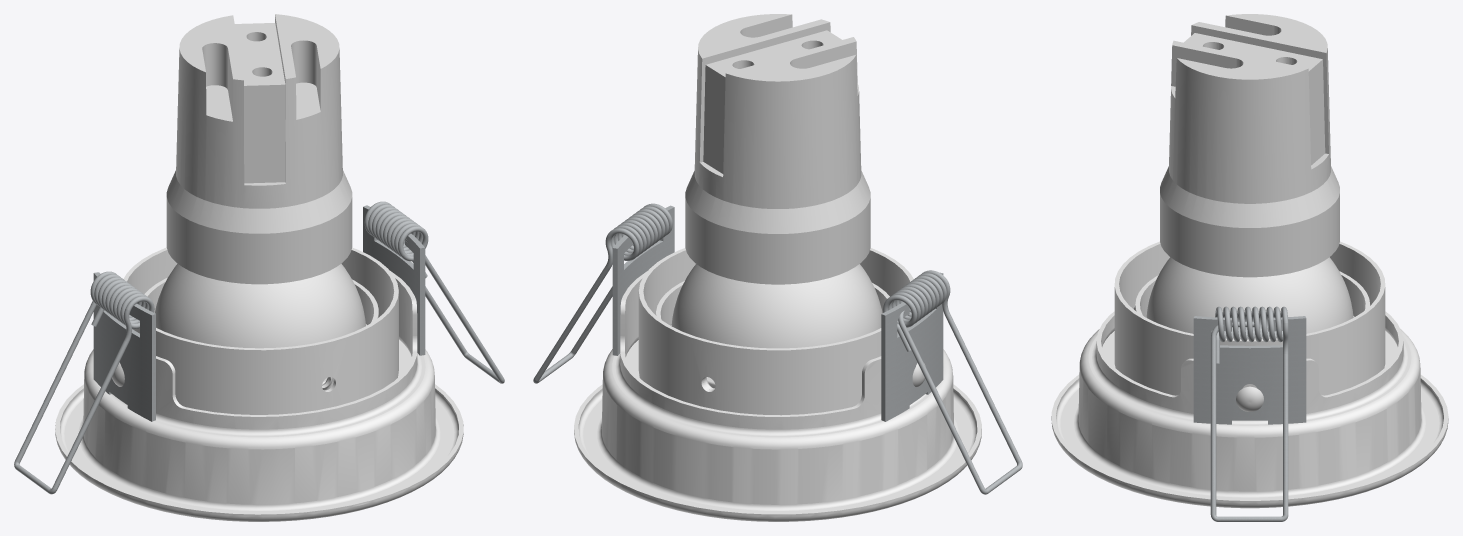
The model's file is IMOMicrobordaRedondoEmbutido.glb.
3 renders of one model, left to right at view 1: azimuth 30°, elevation 25°; view 2: azimuth 150°, elevation 25°; view 3: azimuth 270°, elevation 25°, orthographic. The views are drawn at different scales.
Parts seen in each view (by area): view 1: 3DGeom-1, 3DGeom-8, 3DGeom-2, 3DGeom-4, 3DGeom-10 (×2), 3DGeom-9 (×2), 3DGeom-3; view 2: 3DGeom-1, 3DGeom-8, 3DGeom-2, 3DGeom-4, 3DGeom-10 (×2), 3DGeom-9 (×2), 3DGeom-3; view 3: 3DGeom-8, 3DGeom-1, 3DGeom-2, 3DGeom-4, 3DGeom-9, 3DGeom-10, 3DGeom-3, 3DGeom-13.
Part boxes in pixels (x1,y1,x2,y2): 3DGeom-1: (55, 271, 463, 521); 3DGeom-8: (166, 14, 352, 284); 3DGeom-2: (123, 247, 411, 414); 3DGeom-4: (155, 263, 367, 385); 3DGeom-10 (×2): (14, 201, 504, 494); 3DGeom-9 (×2): (93, 205, 425, 421); 3DGeom-3: (144, 278, 378, 390); 3DGeom-1: (574, 271, 981, 521); 3DGeom-8: (685, 14, 870, 284); 3DGeom-2: (626, 248, 913, 415); 3DGeom-4: (670, 264, 882, 388); 3DGeom-10 (×2): (533, 203, 1022, 494); 3DGeom-9 (×2): (612, 205, 943, 421); 3DGeom-3: (656, 281, 889, 390); 3DGeom-8: (1160, 14, 1339, 277); 3DGeom-1: (1051, 311, 1448, 508); 3DGeom-2: (1102, 241, 1397, 395); 3DGeom-4: (1146, 257, 1354, 339); 3DGeom-9: (1193, 316, 1306, 424); 3DGeom-10: (1210, 306, 1288, 521); 3DGeom-3: (1134, 271, 1370, 317); 3DGeom-13: (1236, 386, 1263, 411).
Bounding box in the file's own units: 0.1131 × 0.093 × 0.088.
Materials: 3 (1 with a texture image).
